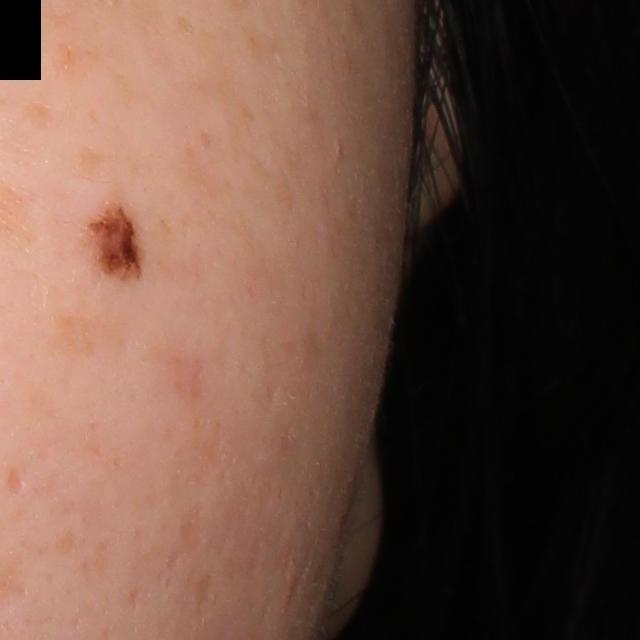melasma: (45, 38, 142, 107), (20, 97, 55, 132), (175, 16, 194, 39), (198, 129, 214, 149)
nevus: (90, 205, 144, 278)
